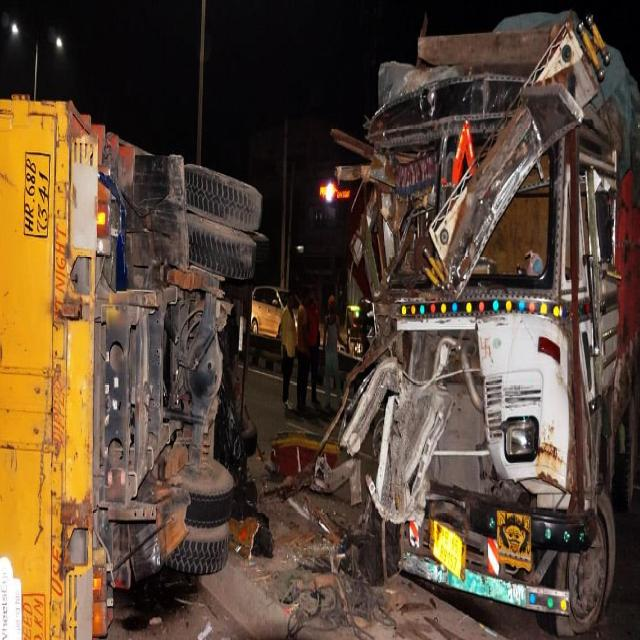accident: (340, 15, 640, 634), (0, 95, 265, 639)
